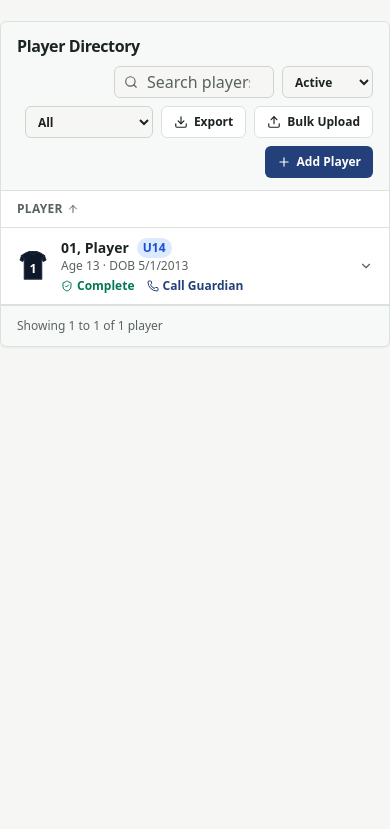
Scenario: RosterManagement › expands a detail panel into a full-width row without breaking the table
Click the text "01, Player U14" at (116, 248), box [61,238,172,258]
(page scrolled)
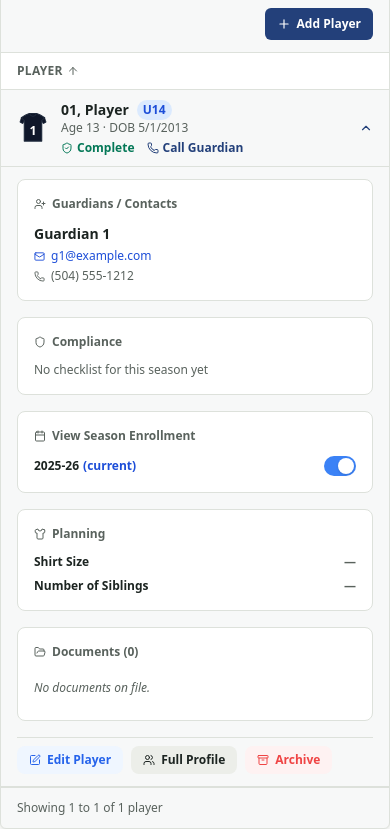
expect the row that starts with "Guardians / Contacts" is shown: met
